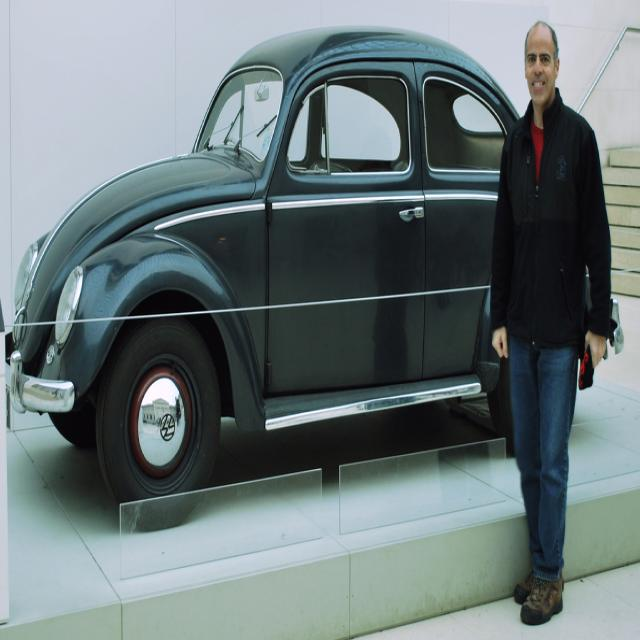Passenger Car: (6, 24, 493, 530)
Pedestrians: (492, 20, 625, 625)
